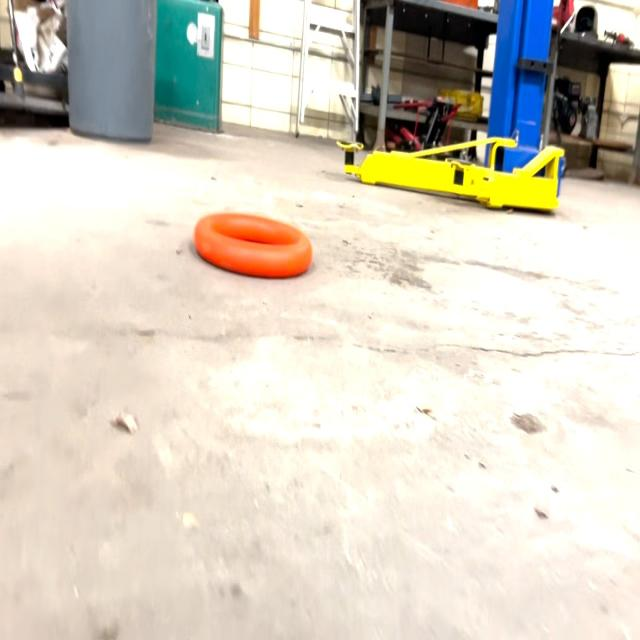note: (191, 204, 315, 283)
